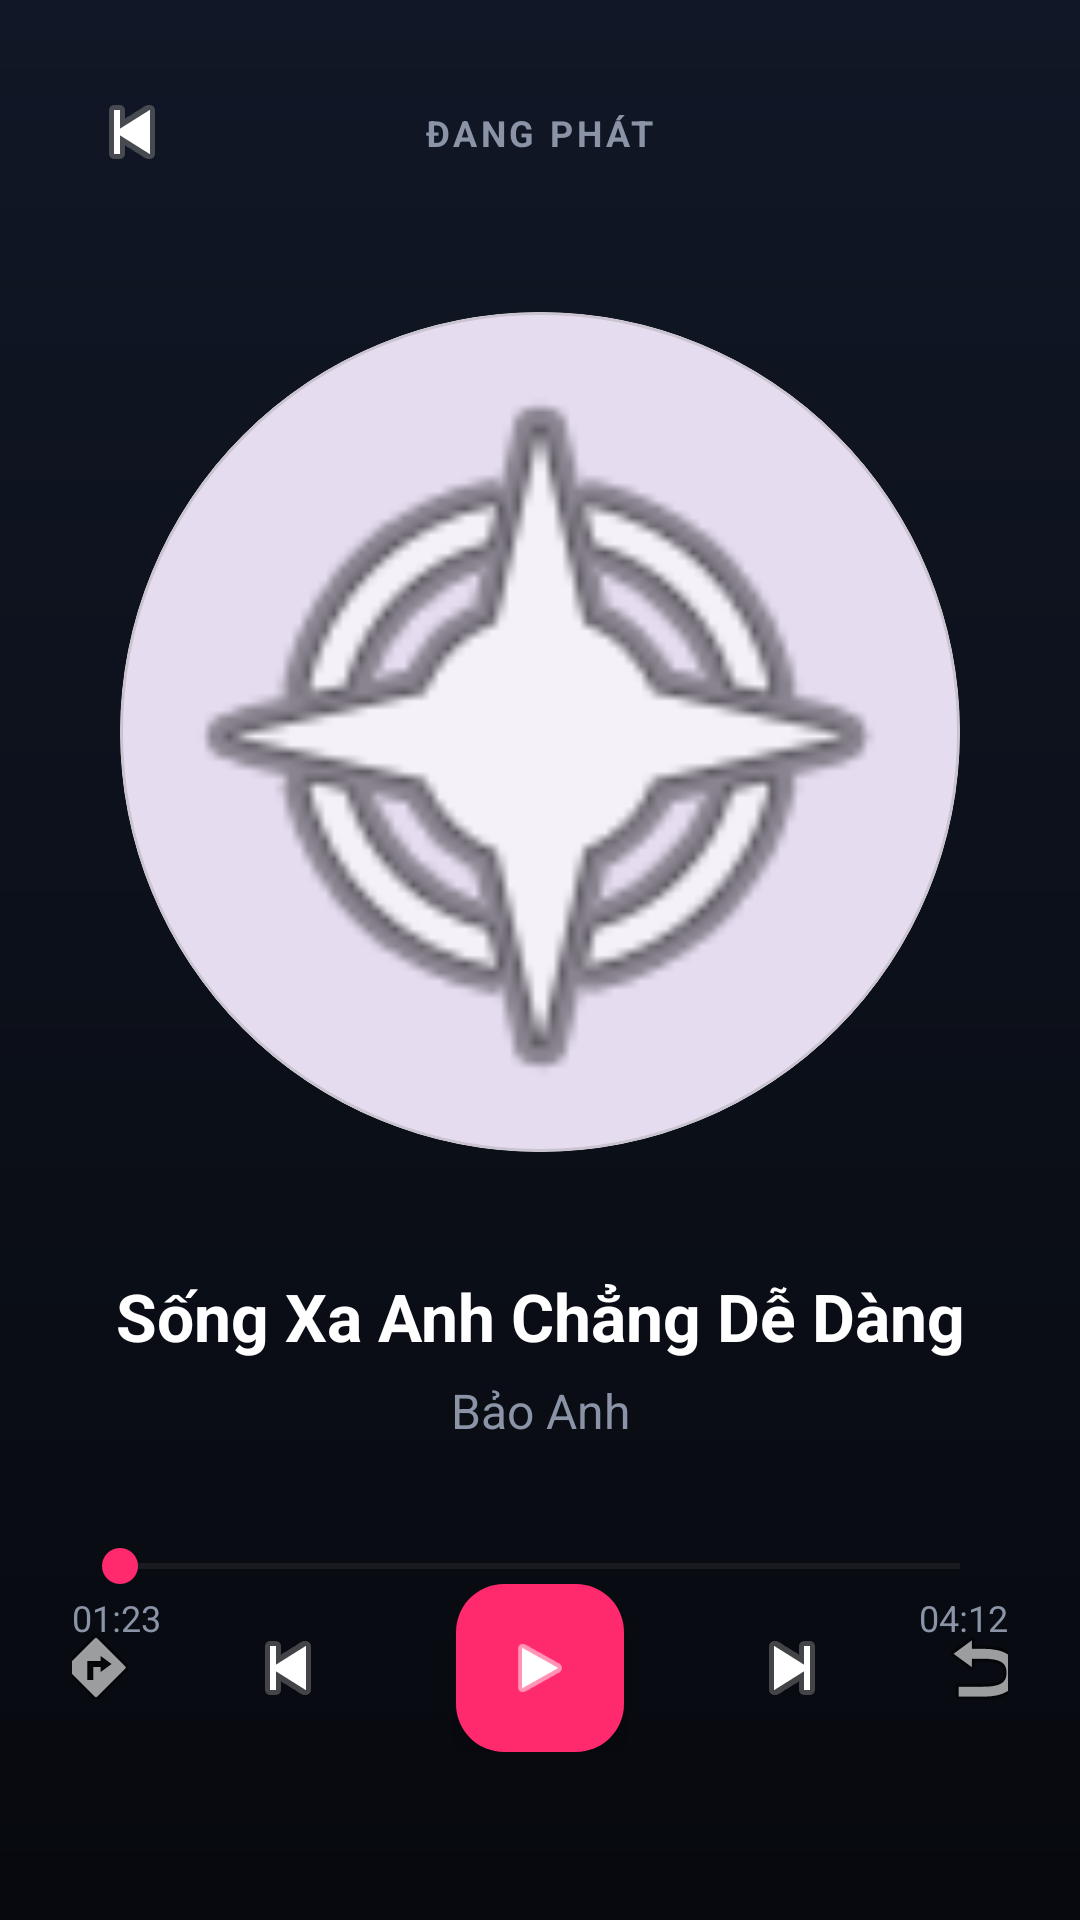

Named icons in this screenshot (1080*1920) and their bounding boxes, bbox=(x1, y1, x2, y2):
next: bbox=(769, 1641, 815, 1695)
play: bbox=(456, 1584, 624, 1752)
previous: bbox=(109, 105, 155, 159), bbox=(265, 1641, 311, 1695)
